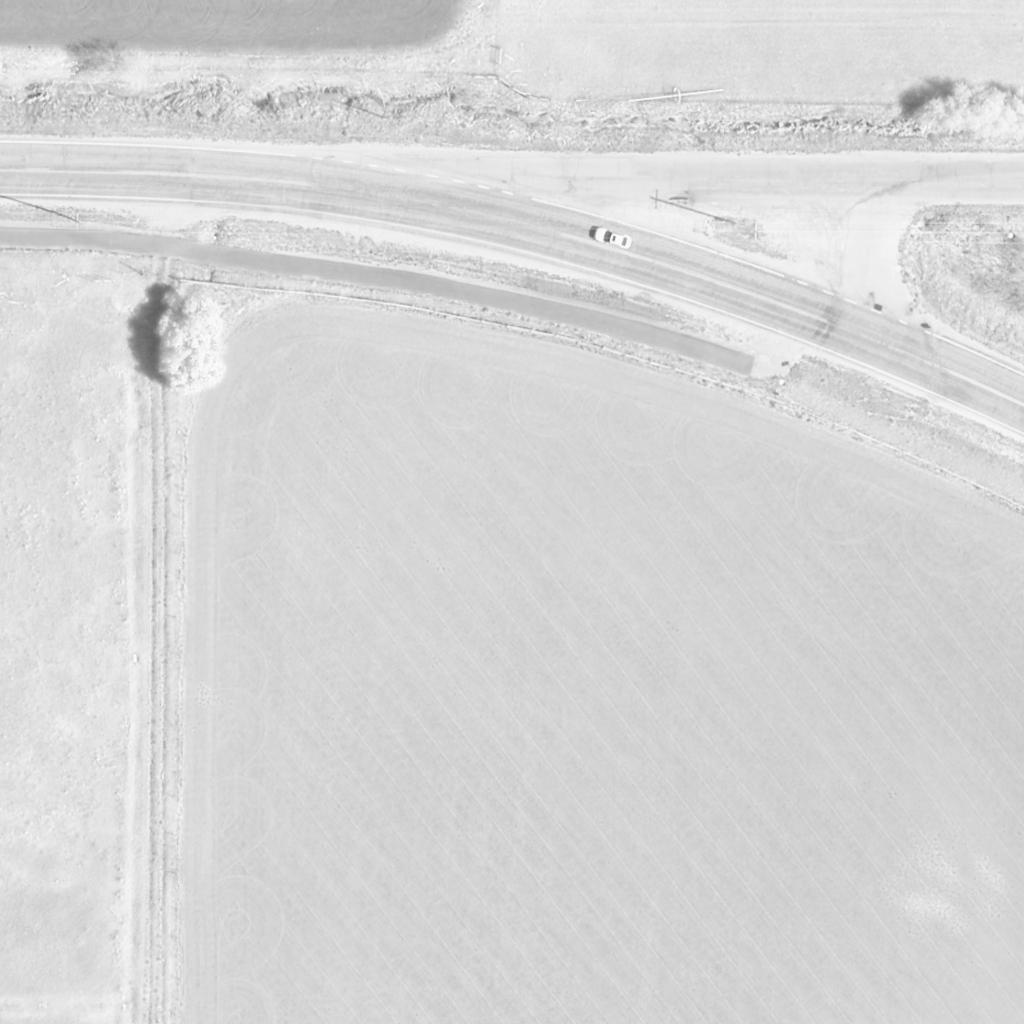vehicle: (593, 228, 633, 252)
